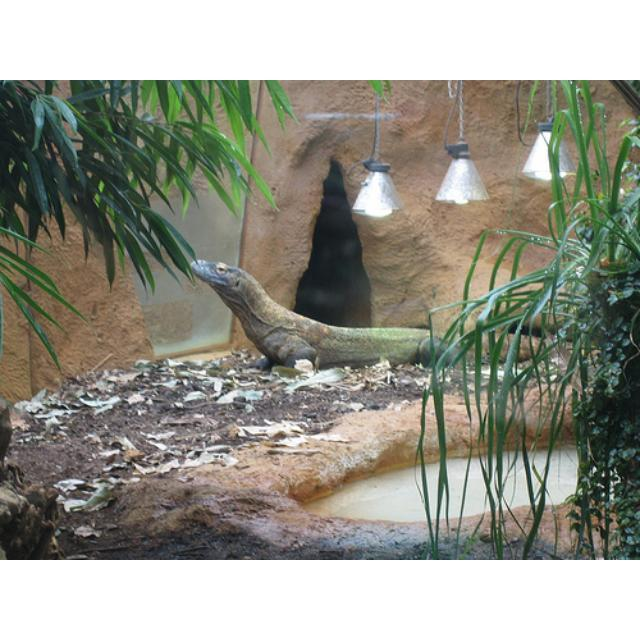KomodoDragon: (185, 258, 606, 371)
